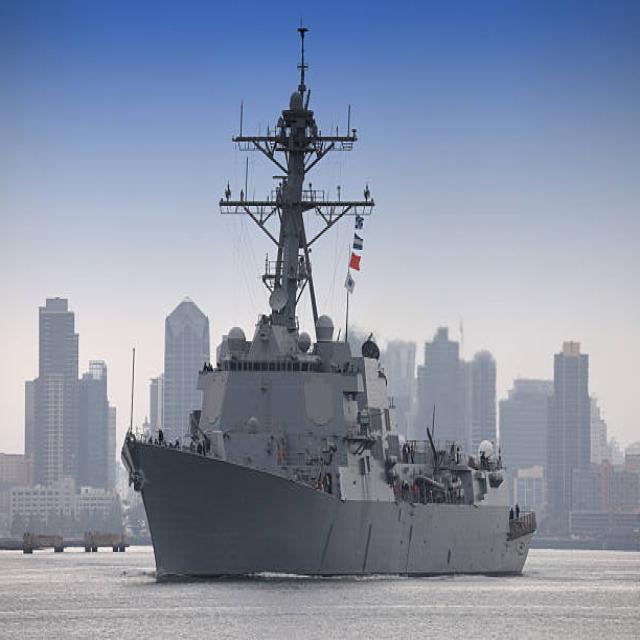Military: (121, 20, 539, 582)
